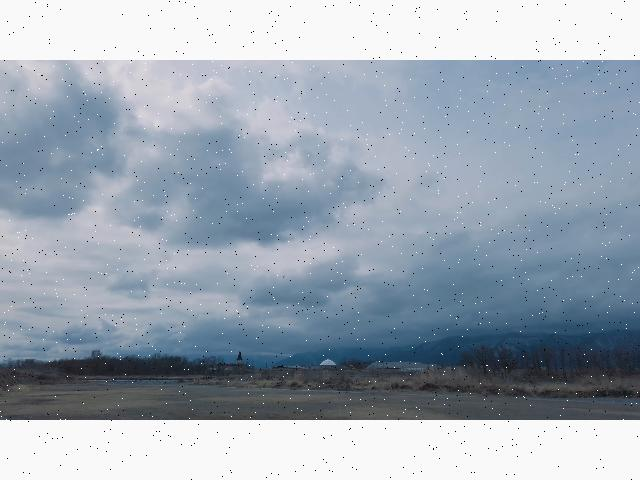Anti-Drone: (280, 271, 288, 283)
